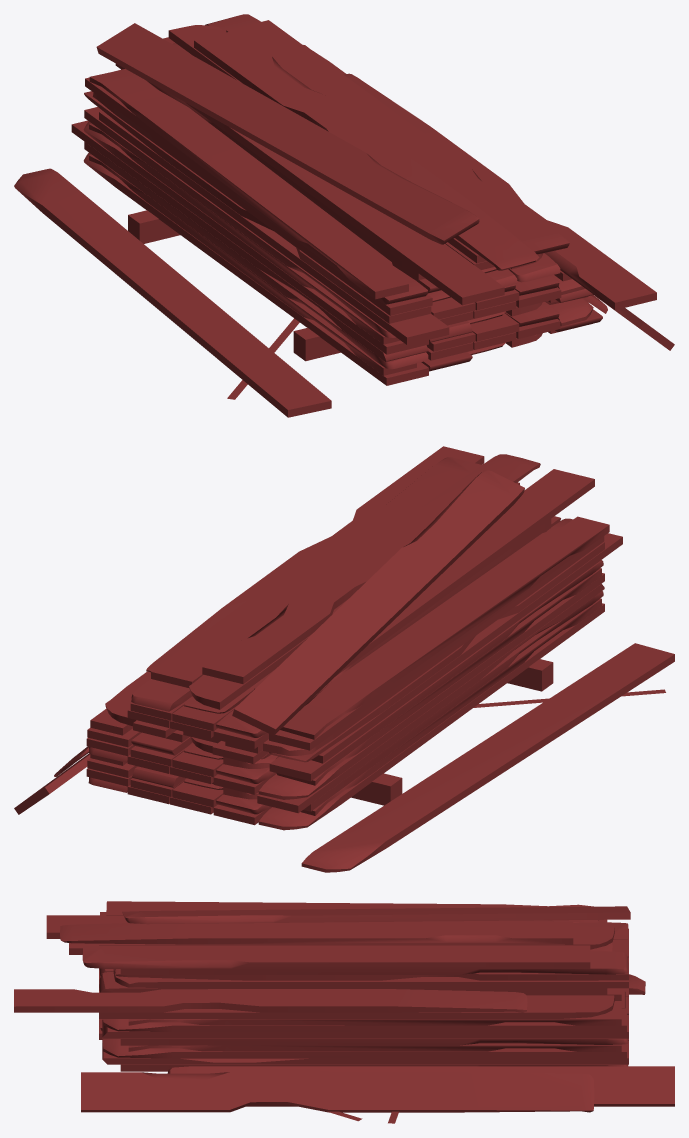
File: SM_WoodPlankPack09.fbx
3 renders of one model, top to bottom at view 1: azimuth 30°, elevation 25°; view 2: azimuth 150°, elevation 25°; view 3: azimuth 270°, elevation 25°, orthographic. The views are drawn at different scales.
Parts seen in each view (by area): view 1: WoodPlankPack09; view 2: WoodPlankPack09; view 3: WoodPlankPack09.
Boxes of the visible parts, bbox=[...] form: WoodPlankPack09: bbox=[14, 14, 674, 417]; WoodPlankPack09: bbox=[14, 446, 674, 872]; WoodPlankPack09: bbox=[14, 901, 674, 1123].
Bounding box in the file's own units: 147 × 52.15 × 244.
